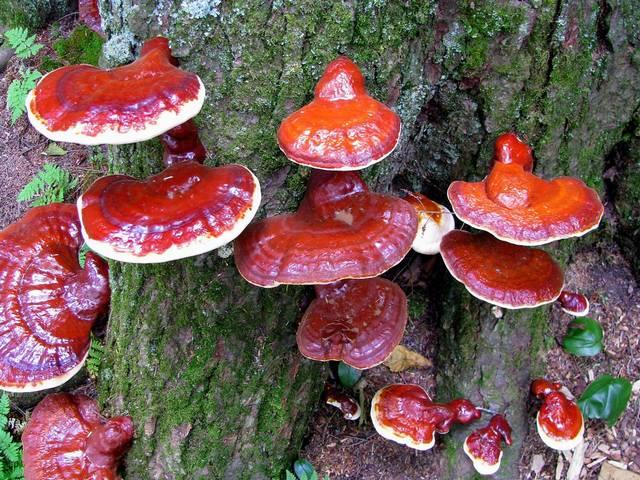poisonous_mushroom: (244, 159, 626, 463), (0, 188, 150, 479), (24, 35, 206, 146), (75, 159, 262, 264), (446, 131, 604, 246), (275, 55, 402, 172)
